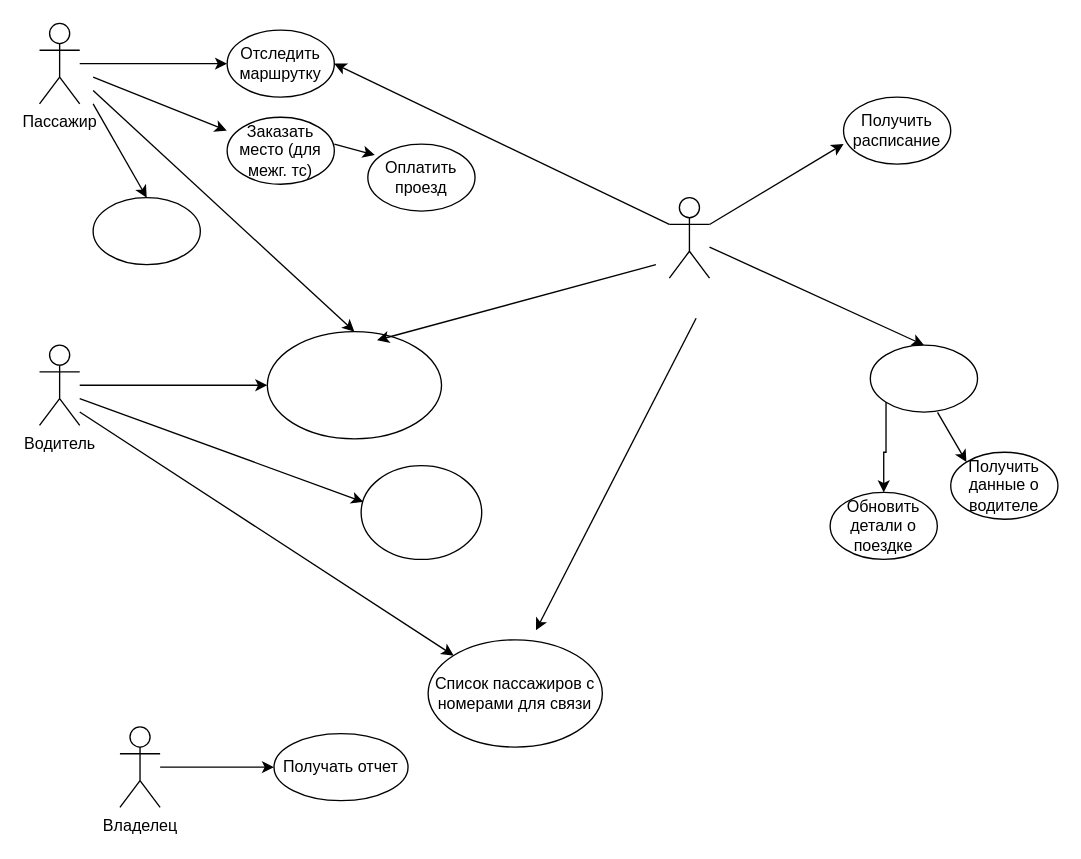
This 1081x859 diagram has some shape labels left out. The centre of each missing label's shape, as x and y in pixels:
"Диспетчер" belongs at point (689, 237).
"Найти маршрут" belongs at point (146, 230).
"Получать информацию о маршруте и поездках" belongs at point (354, 384).
"Получить личное расписание" belongs at point (421, 511).
"Управление маршрутами" belongs at point (923, 378).
